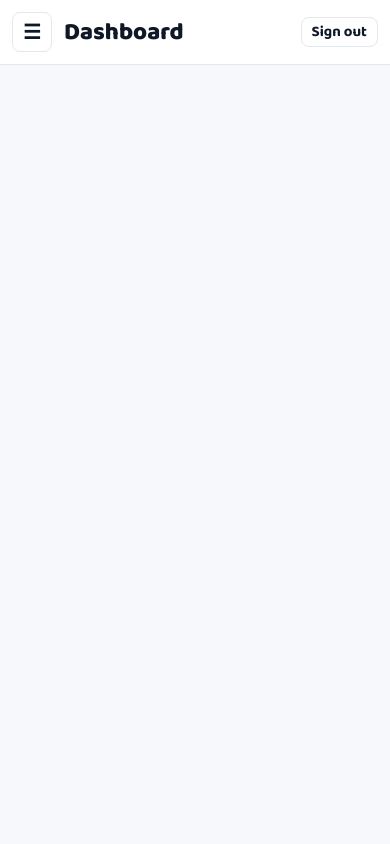
it: AdminLayout drawer › opens the menu from the top bar and closes it again
Click the button named "Open menu" at (32, 32), box x1=12 y1=12 x2=52 y2=52
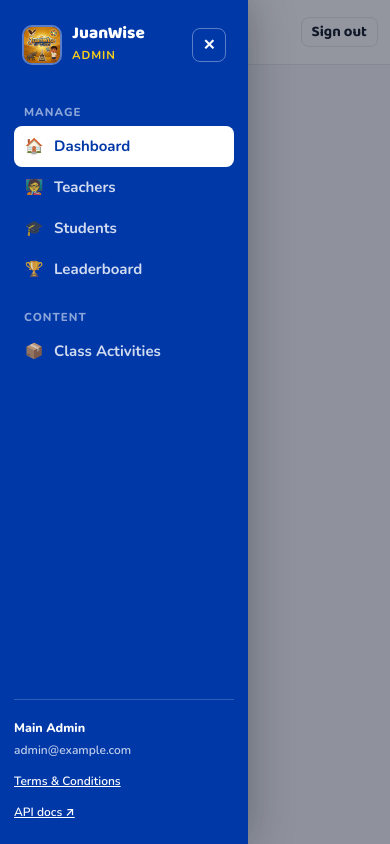
Expected: the button named "Open menu" is expanded, x1=12 y1=12 x2=52 y2=52
Click the button named "Close menu" at (209, 45), box x1=192 y1=28 x2=226 y2=62
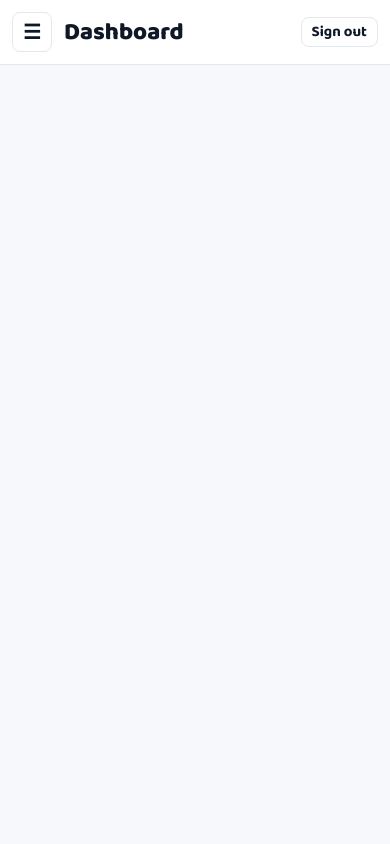
Expected: the button named "Open menu" is collapsed, x1=12 y1=12 x2=52 y2=52
